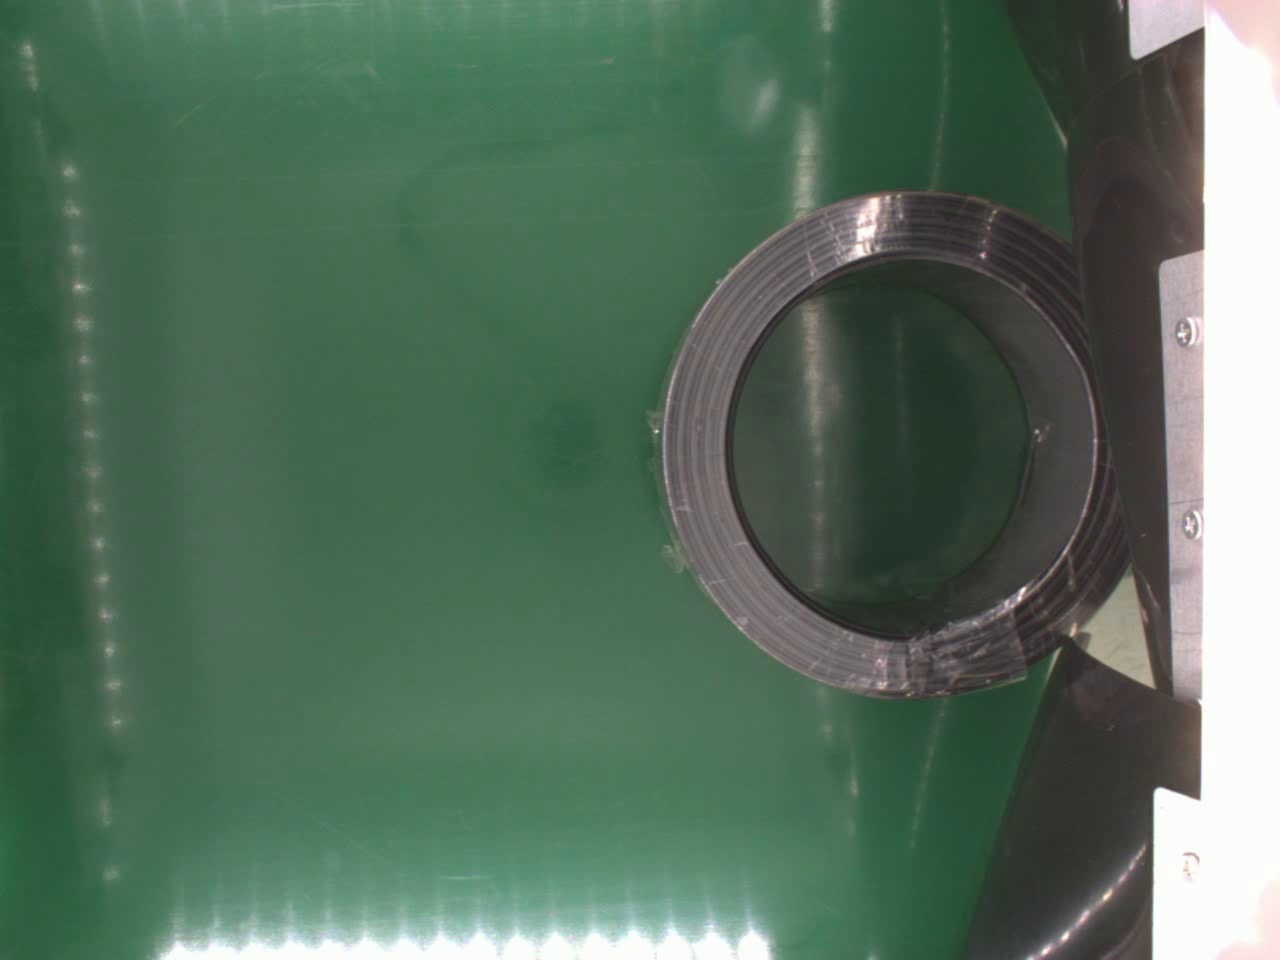black: (653, 186, 1132, 700)
